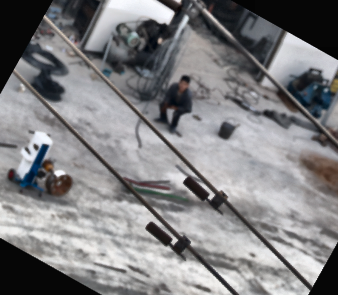damper_defect: (180, 173, 235, 219), (142, 219, 193, 262), (153, 1, 214, 24)
